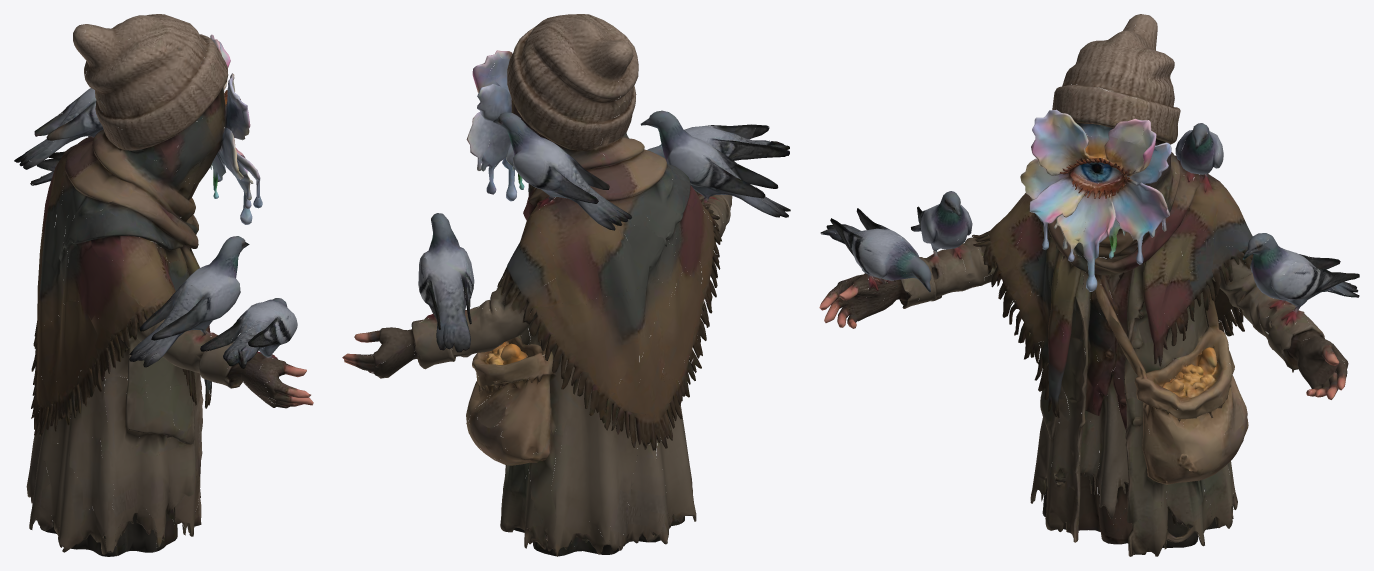
The model's file is pigeonlady.glb.
3 views of the same model, side by side, from view 1: azimuth 30°, elevation 25°; view 2: azimuth 150°, elevation 25°; view 3: azimuth 270°, elevation 25° (orthographic).
Parts seen in each view (by area): view 1: tripo_node_4e3db428-c458-4de0-a6a6-46ae99515e8d; view 2: tripo_node_4e3db428-c458-4de0-a6a6-46ae99515e8d; view 3: tripo_node_4e3db428-c458-4de0-a6a6-46ae99515e8d.
Part boxes in pixels (x1,y1,x2,y2): tripo_node_4e3db428-c458-4de0-a6a6-46ae99515e8d: [14, 14, 313, 556]; tripo_node_4e3db428-c458-4de0-a6a6-46ae99515e8d: [342, 14, 790, 556]; tripo_node_4e3db428-c458-4de0-a6a6-46ae99515e8d: [819, 14, 1359, 556].
Bounding box in the file's own units: 0.5198 × 1 × 0.9919.
Materials: 1 (1 with a texture image).
